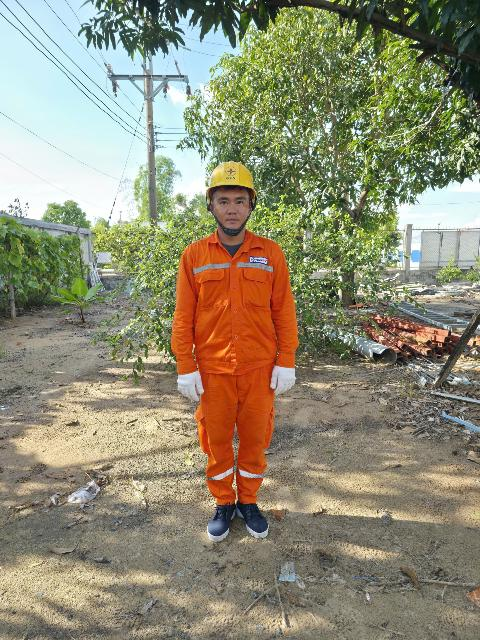gloves: (165, 366, 216, 408), (267, 358, 308, 399)
helmet: (202, 151, 265, 206)
shoes: (189, 490, 237, 548), (235, 478, 277, 543)
